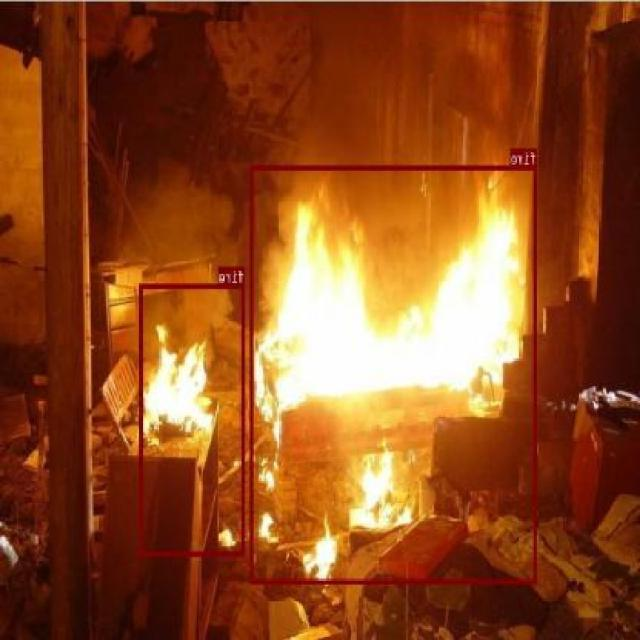Fire: (250, 164, 538, 584), (140, 282, 246, 556)
